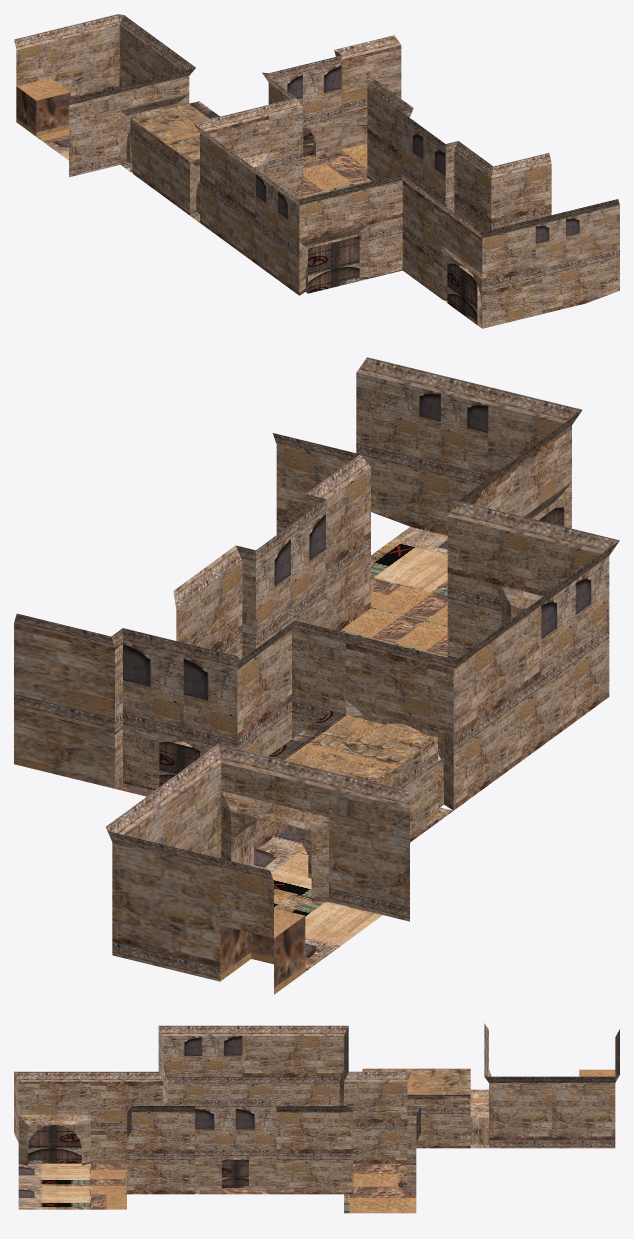
The model's file is DustParts6.fbx.
3 views of the same model, one above another, from view 1: azimuth 30°, elevation 25°; view 2: azimuth 150°, elevation 25°; view 3: azimuth 270°, elevation 25° (orthographic). The views are drawn at different scales.
Visible parts, largest first — view 1: Trigger6; view 2: Trigger6; view 3: Trigger6.
Part boxes in pixels (bbox=[...]): Trigger6: bbox=[14, 14, 619, 328]; Trigger6: bbox=[14, 357, 619, 994]; Trigger6: bbox=[14, 1023, 619, 1213].
Bounding box in the file's own units: 27.44 × 8.88 × 54.07.
